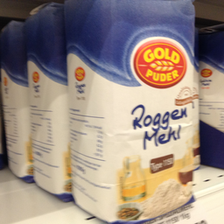flour: (64, 1, 199, 223)
